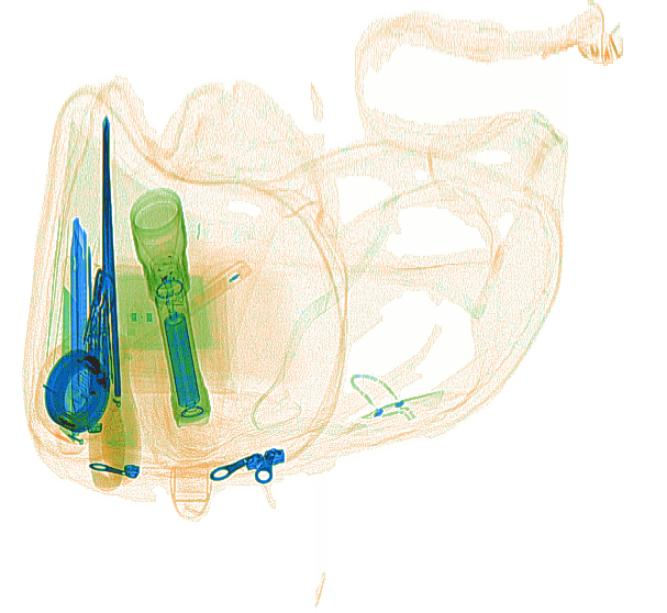battery: (163, 310, 202, 407)
knife: (65, 217, 92, 439)
